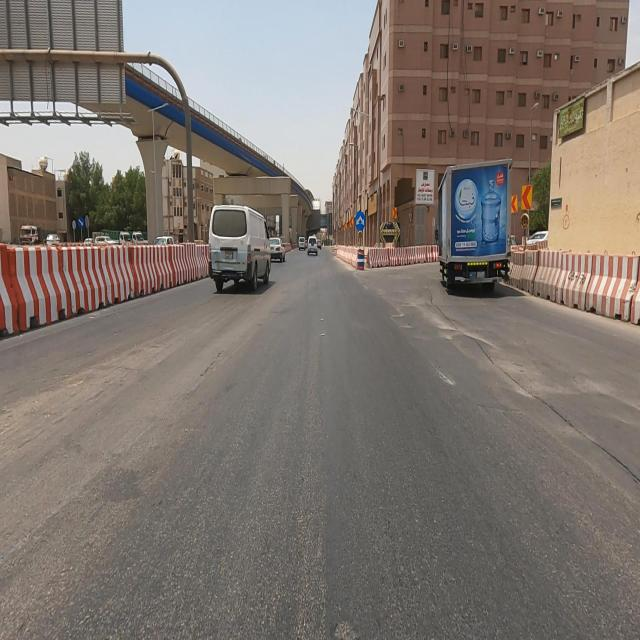Graffiti: (563, 206, 572, 231)
